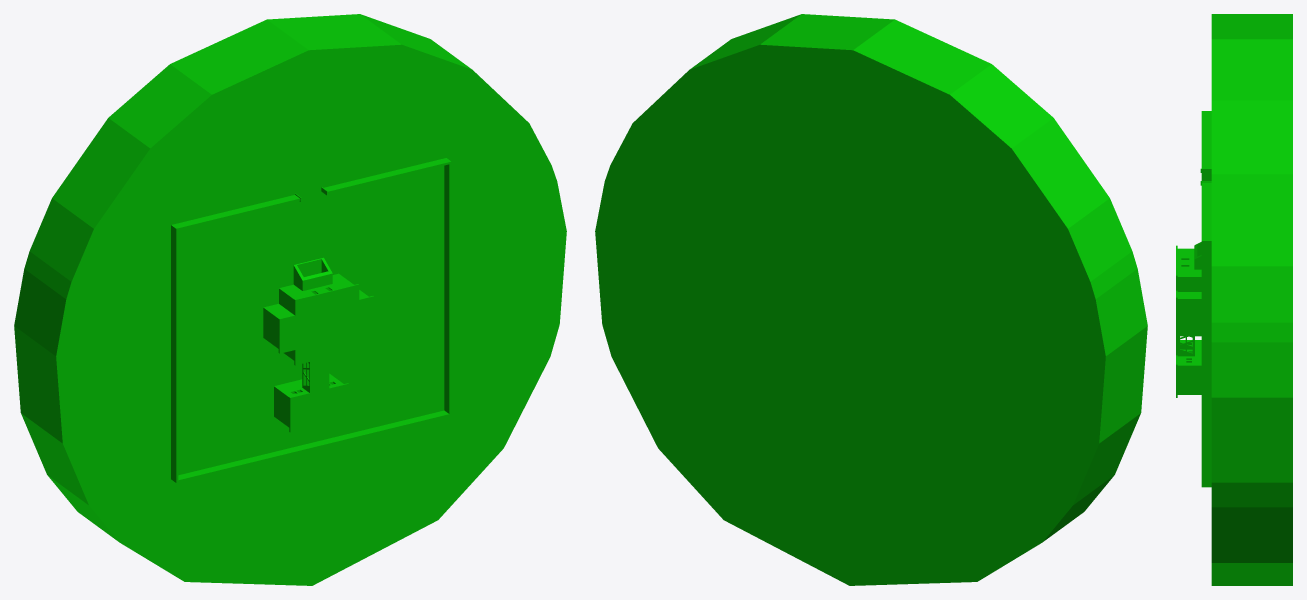
File: lab_0001_dec.obj
3 views of the same model, side by side, from view 1: azimuth 30°, elevation 25°; view 2: azimuth 150°, elevation 25°; view 3: azimuth 270°, elevation 25° (orthographic). The views are drawn at different scales.
Parts seen in each view (by area): view 1: RENDER.025_Cube.084; view 2: RENDER.025_Cube.084; view 3: RENDER.025_Cube.084.
Part boxes in pixels (<box>): RENDER.025_Cube.084: <box>14,14,566,585</box>; RENDER.025_Cube.084: <box>595,14,1147,585</box>; RENDER.025_Cube.084: <box>1176,14,1292,585</box>.
Size of the model in its own units: 2893 by 2905 by 592.
